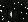person: (5, 9, 12, 20)
